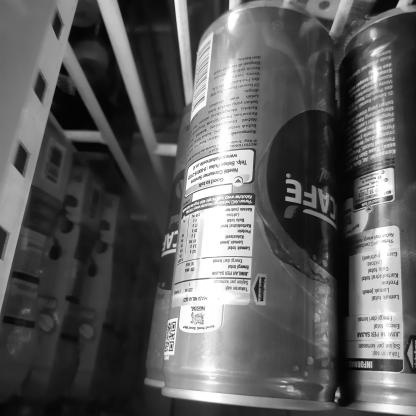alumunium_can: (138, 4, 356, 416)
